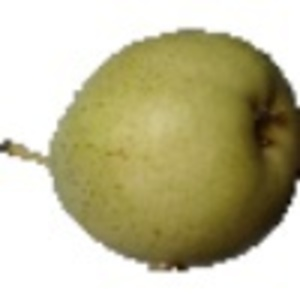pera: (1, 25, 300, 275)
